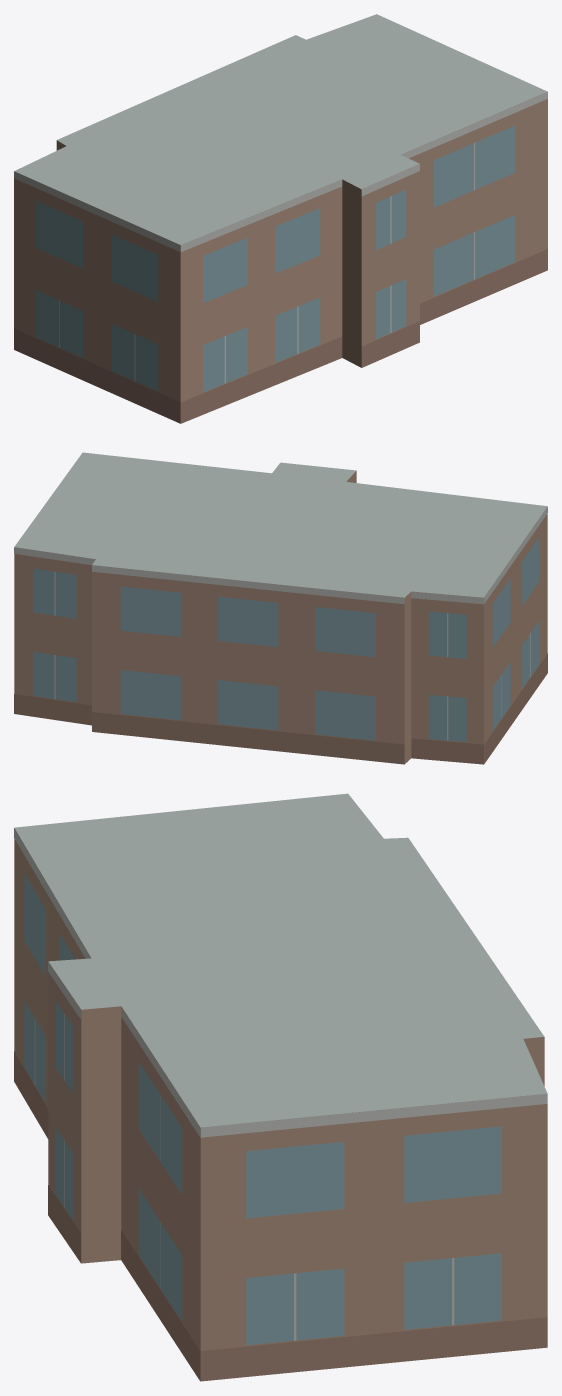
Rendered from survey-upis-32616399.glb.
The picture shows the model from 3 angles, top to bottom: view 1: azimuth 30°, elevation 25°; view 2: azimuth 150°, elevation 25°; view 3: azimuth 270°, elevation 25°; orthographic projection. The views are drawn at different scales.
Parts seen in each view (by area): view 1: survey-upis-32616399.tmp; view 2: survey-upis-32616399.tmp; view 3: survey-upis-32616399.tmp.
Boxes of the visible parts, <box> form: survey-upis-32616399.tmp: <box>14,14,547,423</box>; survey-upis-32616399.tmp: <box>14,452,547,764</box>; survey-upis-32616399.tmp: <box>14,793,547,1381</box>.
Size of the model in its own units: 17.23 by 6.1 by 11.63.
